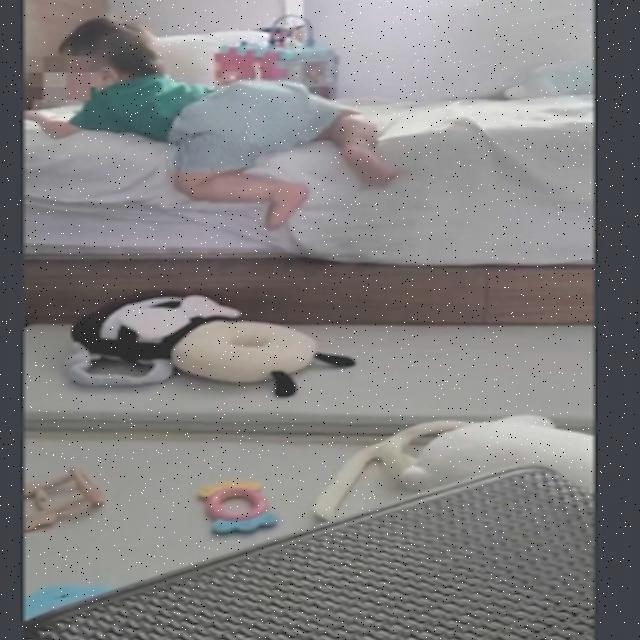child: (30, 7, 395, 225)
